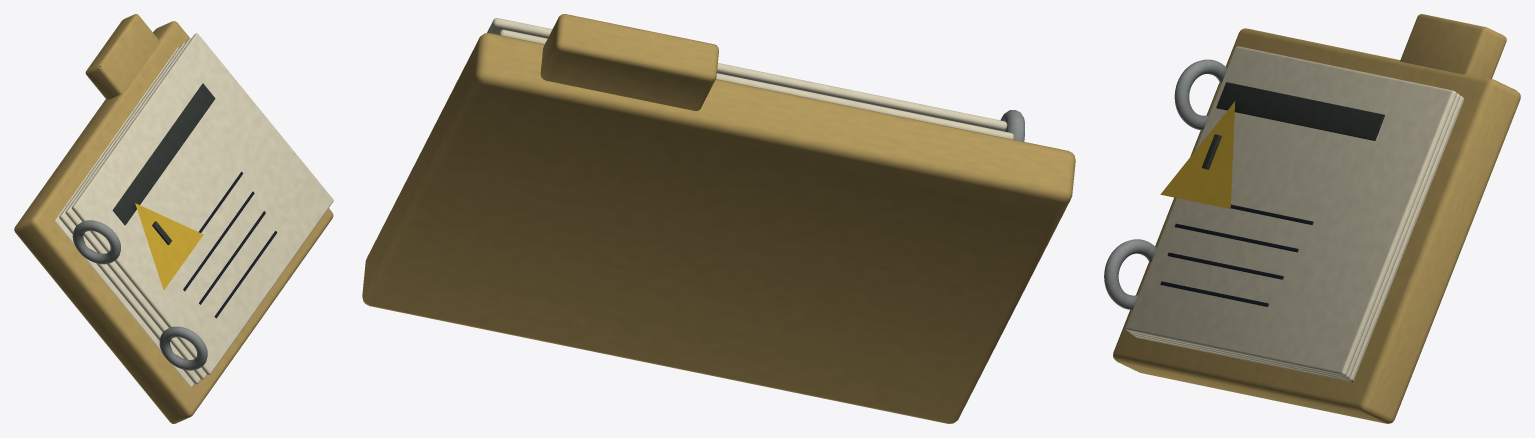
3 renders of one model, left to right at view 1: azimuth 30°, elevation 25°; view 2: azimuth 150°, elevation 25°; view 3: azimuth 270°, elevation 25°, orthographic. The views are drawn at different scales.
Parts seen in each view (by area): view 1: Rigid report cover; view 2: Rigid report cover; view 3: Rigid report cover.
Boxes of the visible parts, box(x1,y1,x2,y2) form: Rigid report cover: box(14, 14, 333, 423); Rigid report cover: box(362, 14, 1075, 423); Rigid report cover: box(1104, 14, 1520, 423).
Bounding box in the file's own units: 1.37 × 1.1 × 1.03.
1 material, 1 textured.
